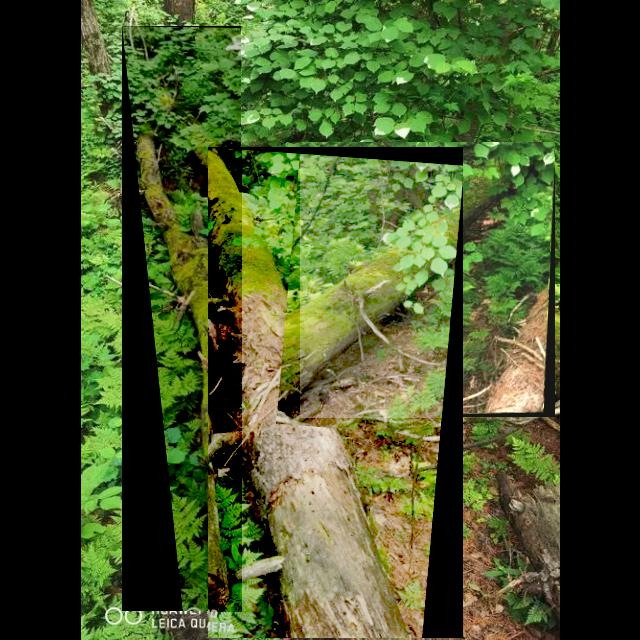Fallen Tree: (208, 147, 464, 639), (300, 142, 556, 418), (122, 26, 242, 612)
